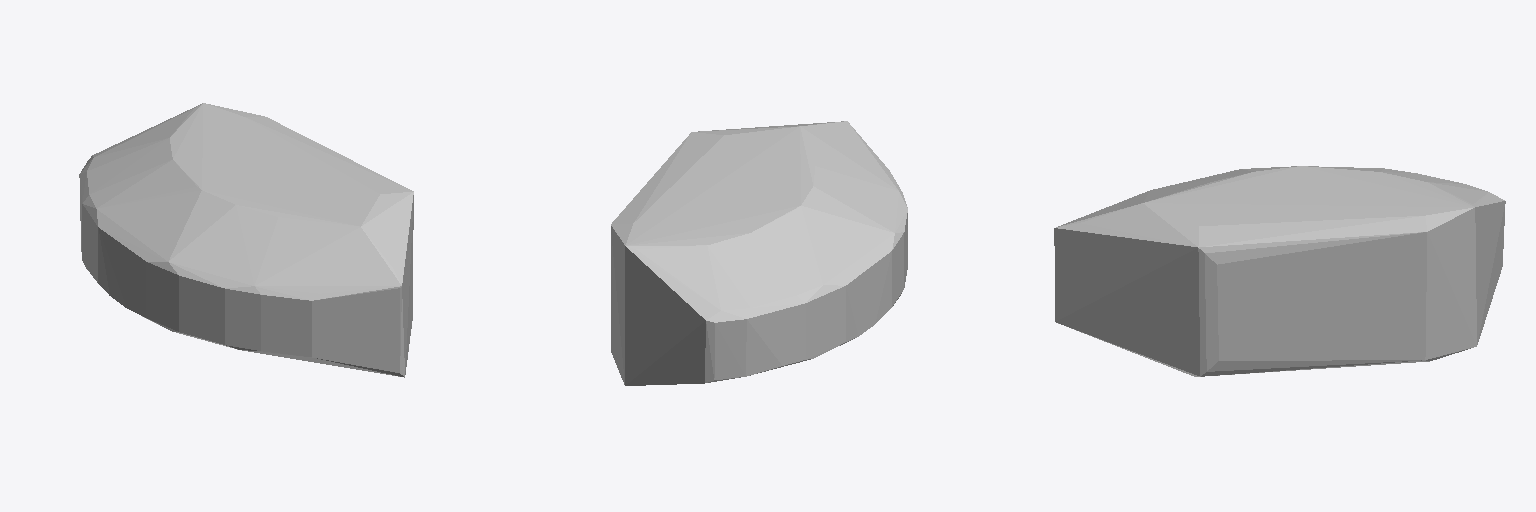
The model's file is solo_lower_leg_v2_right_side_collision_3.obj.
3 renders of one model, left to right at view 1: azimuth 30°, elevation 25°; view 2: azimuth 150°, elevation 25°; view 3: azimuth 270°, elevation 25°, orthographic.
Bounding box in the file's own units: 0.0175 × 0.01 × 0.0289.